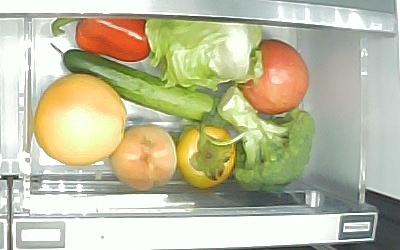apple: (238, 39, 309, 114)
broccoli: (218, 86, 316, 190)
cucumber: (50, 41, 221, 123)
grapefruit: (33, 73, 126, 165)
lettuce: (146, 19, 262, 87)
paprika: (49, 17, 152, 62)
peach: (110, 123, 177, 191)
persimmon: (177, 123, 236, 189)
